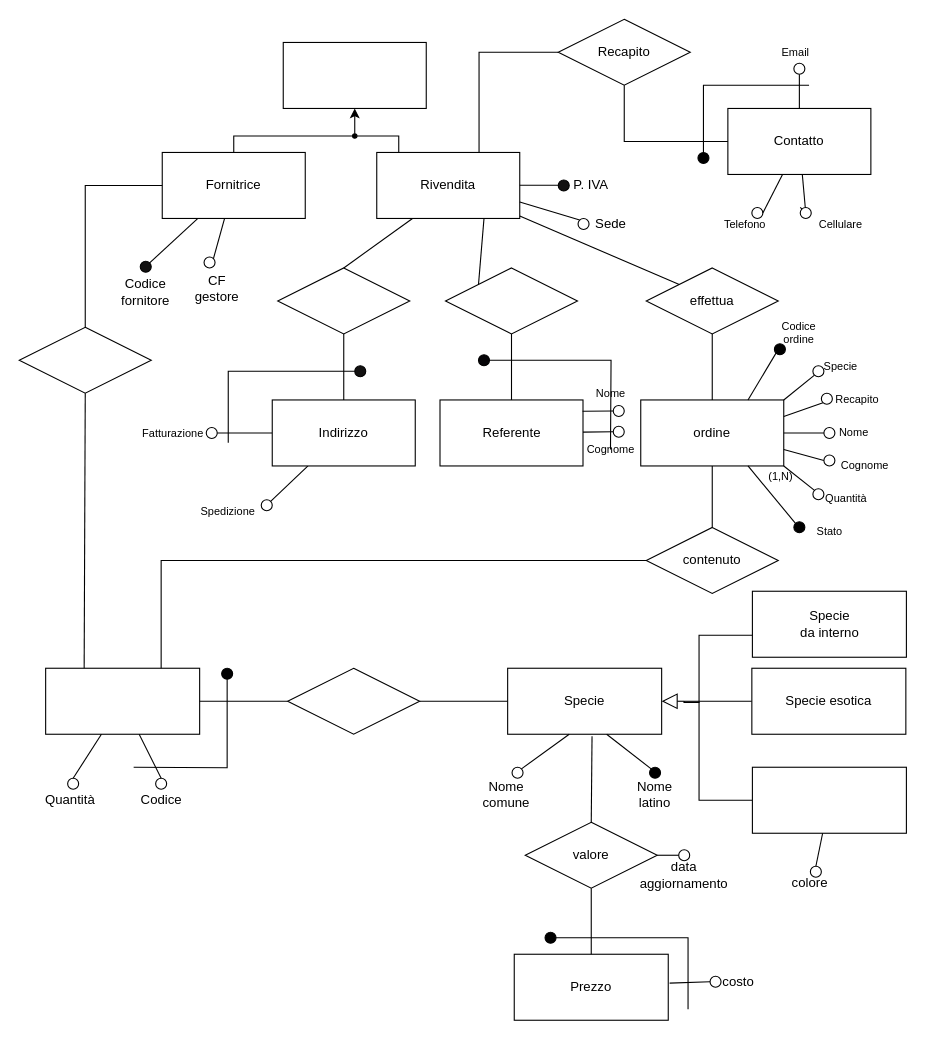
Some shapes in this 926 by 1040 pixel diagram are drawn without their labels. Each missing label, with the centre of its shape:
"Azienda" belongs at (354,74).
"Istanza di" belongs at (353,700).
"locazione" belongs at (343,300).
"Pianta" belongs at (122,700).
"riferimento" belongs at (511,300).
"rifornisce" belongs at (84,359).
"Specie fiorita" belongs at (828,799).
